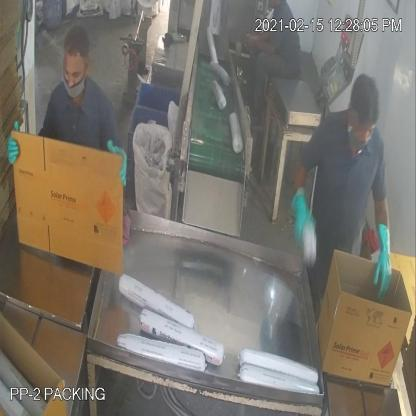glove: (368, 181, 398, 311), (286, 158, 322, 264), (97, 130, 140, 198), (0, 110, 26, 178)
no_glove: (239, 26, 286, 62)
